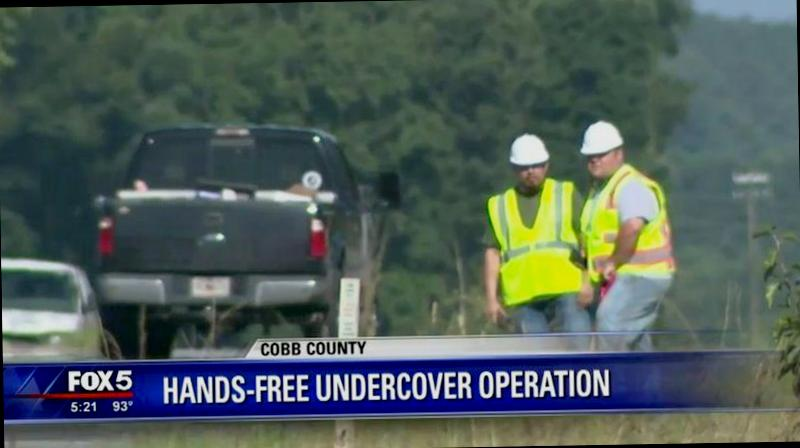helmet: (577, 120, 626, 163), (503, 130, 552, 170)
person: (569, 115, 669, 353), (483, 121, 586, 346)
